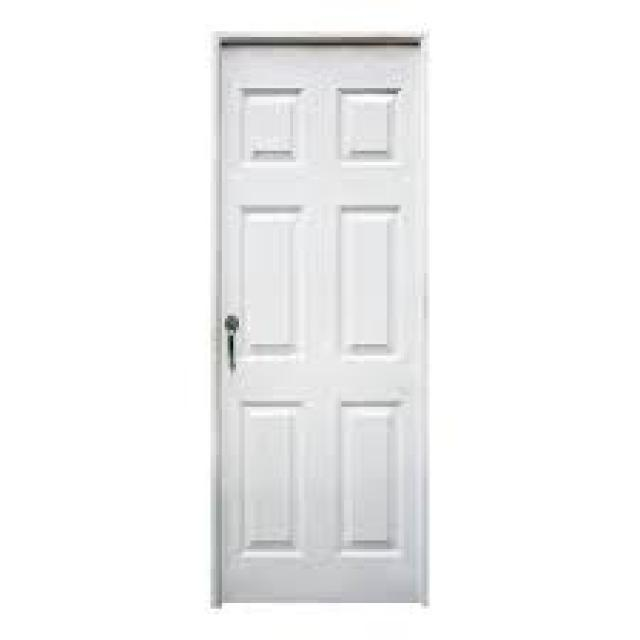door: (213, 36, 430, 607)
